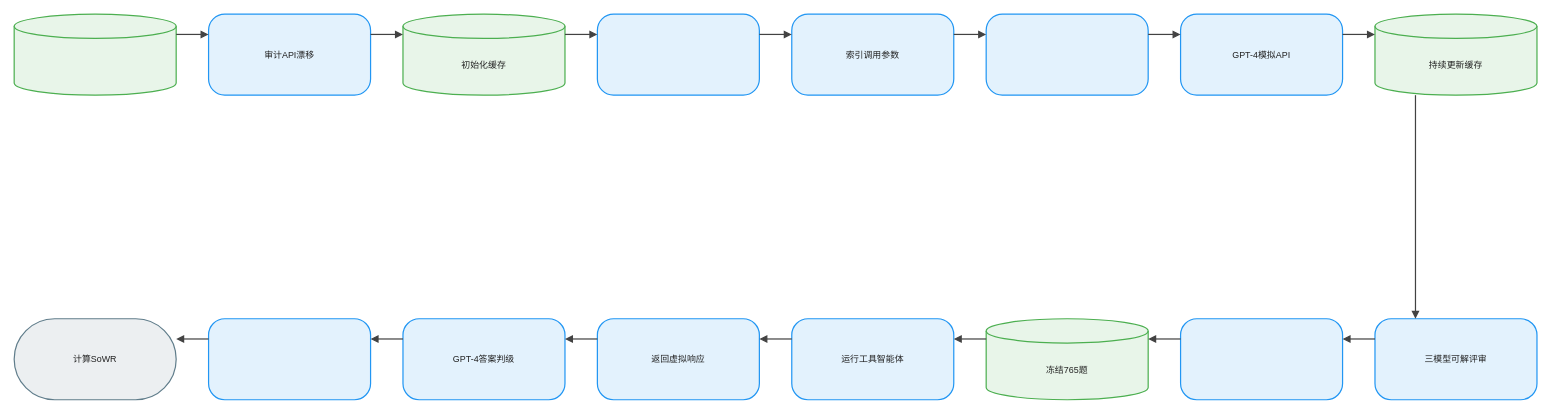
Some shapes in this 1552 by 415 pixel diagram are drawn without their labels. The centre of each missing label's shape, as x and y in pixels:
ToolEval2共1100题: the point at 94,54
多数票筛选: the point at 1261,359
尝试真实API: the point at 1066,54
筛选缓存记录: the point at 678,54
计算SoPR: the point at 289,359
